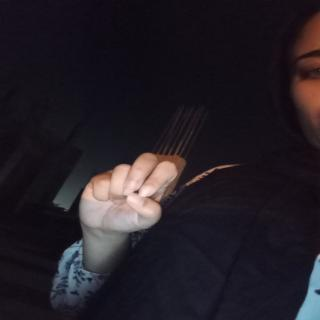QAAF: (70, 145, 188, 242)
